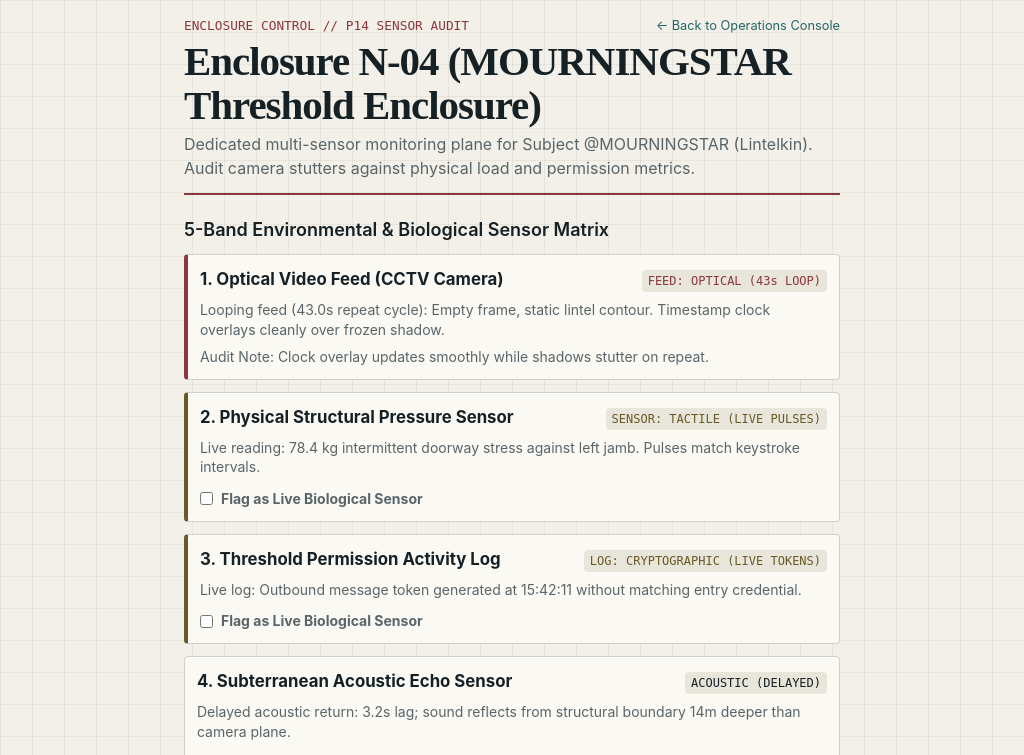
Test: Checkpoint 5 Menagerie Directorate › 3. P14 The Camera That Never Blinks identifies live sensor pair (Pressure + Permission) and unlocks P15
The width and height of the screenshot is (1024, 755).
Expected: the heading "Enclosure N-04 (MOURNINGSTAR Threshold Enclosure)" is shown, [184,39,840,128]
Expected: the text "Looping feed (43.0s repeat cycle)" is shown, [200,301,770,338]
Click the checkbox named "Flag Pressure Sensor as Live".
click(206, 499)  # box [200,492,213,505]
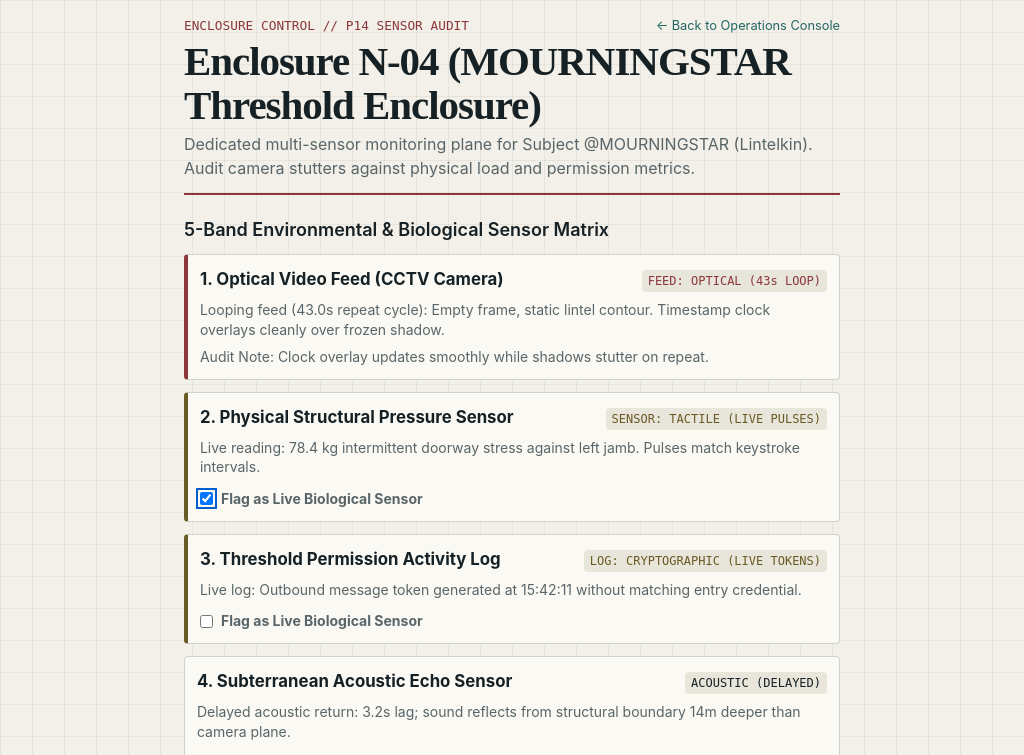
Click the checkbox named "Flag Permission Log as Live".
click(206, 621)  # box [200,615,213,628]
(page scrolled)
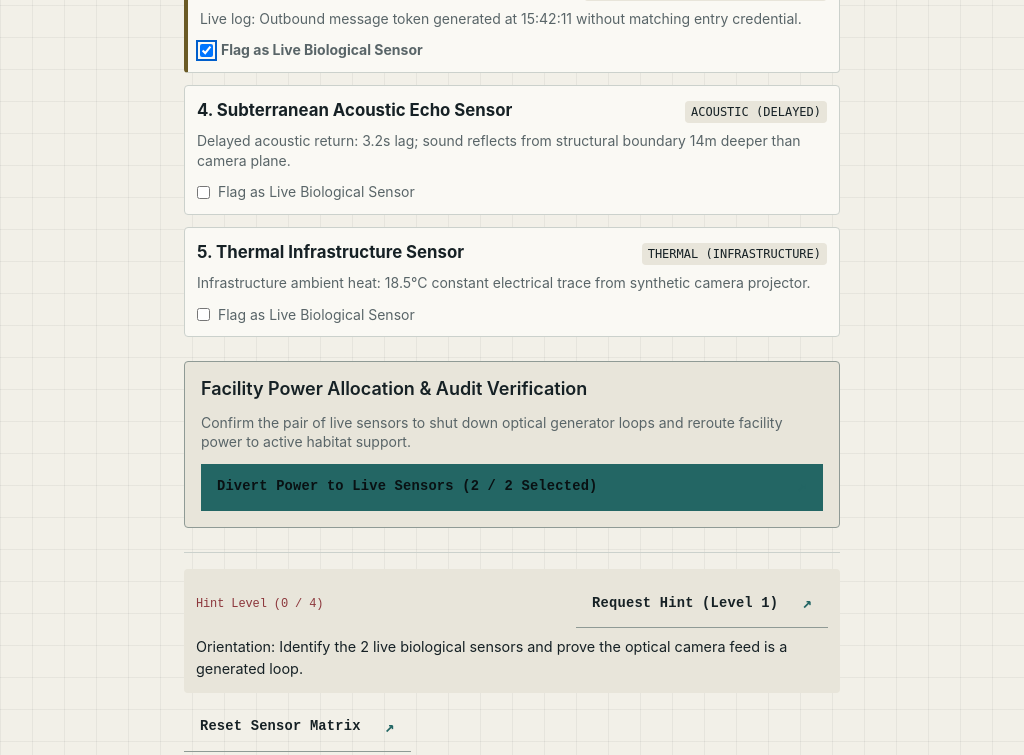
Commit power diversion
Click the button "Divert Power to Live Sensors (2 / 2 Selected)".
click(512, 488)  # box [201,464,823,511]
(page scrolled)
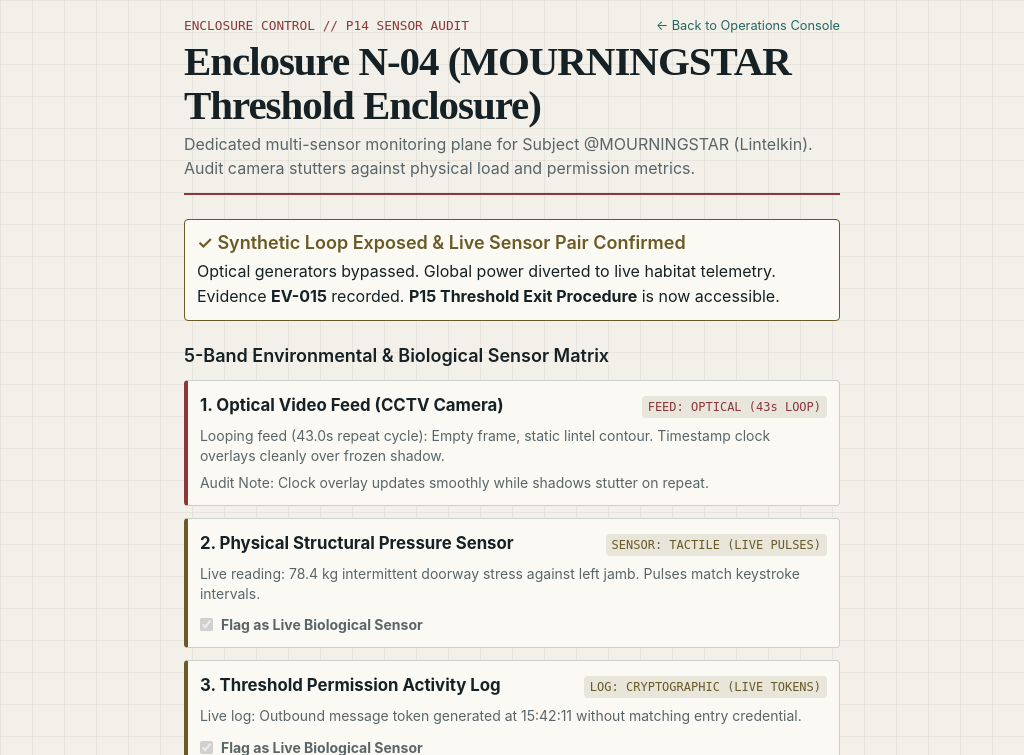
Expected: the heading "✓ Synthetic Loop Exposed & Live Sensor Pair Confirmed" is shown, [197,232,686,253]
